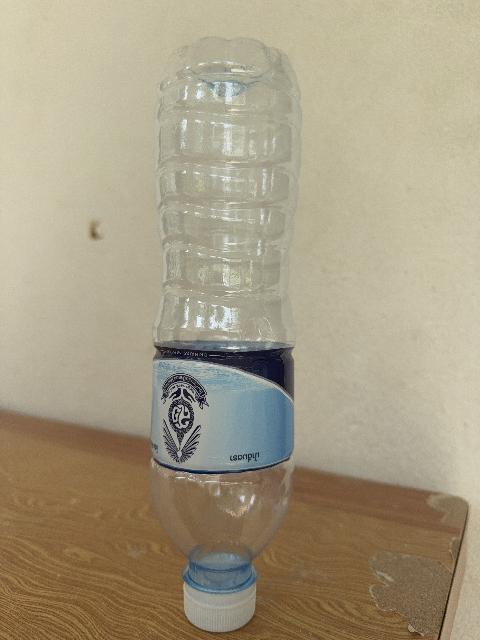bottle: (151, 38, 301, 631)
